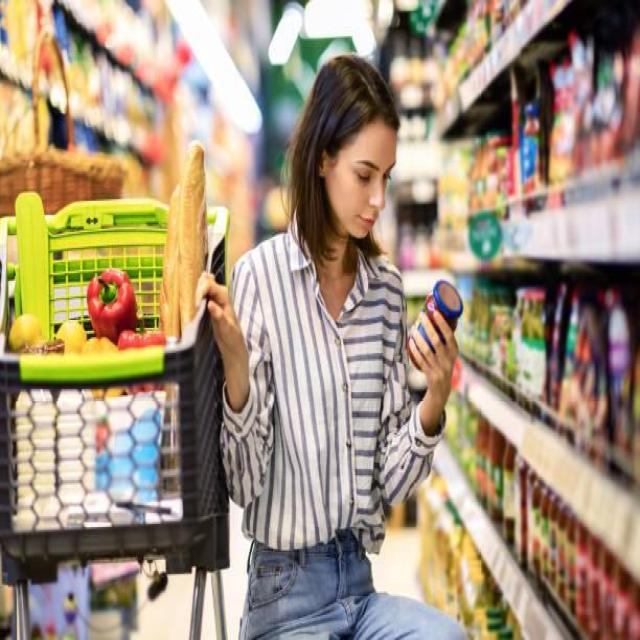article: (421, 279, 462, 340)
hands: (196, 271, 248, 408), (409, 309, 457, 435)
person: (197, 55, 464, 637)
